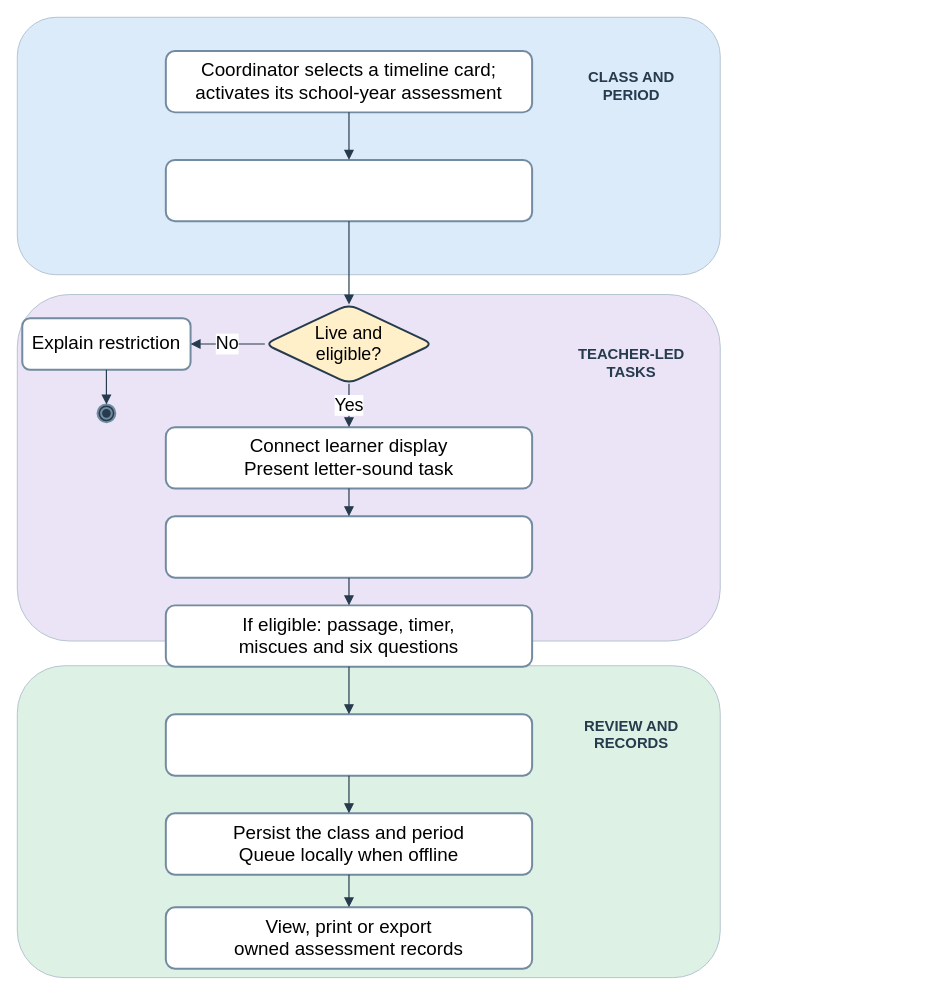
Image size: 945x995. Some labels were removed from this diagram. The shapes that lost their labels are listed below. From the top down, each one's centre as x and y in pixels, then its label:
At (x=348, y=190): "Teacher selects class and learner Chooses a live, eligible timeline".
At (x=348, y=546): "Mark words if eligible Apply stopping rules".
At (x=348, y=744): "Review and save computed assessment result".
